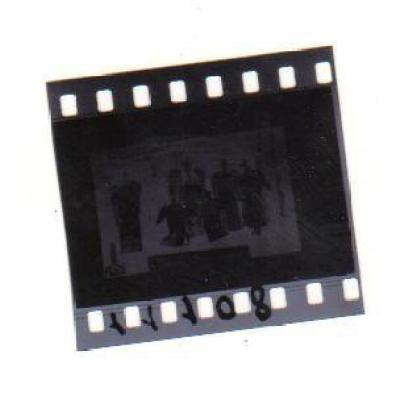photos_negatives: (66, 120, 346, 270)
